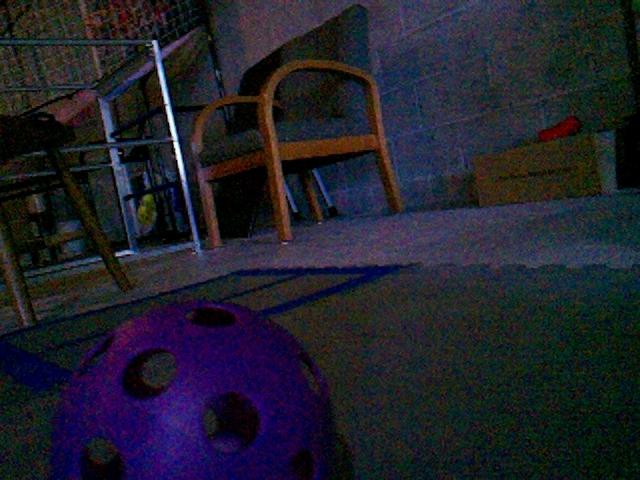Purple: (46, 297, 343, 478)
